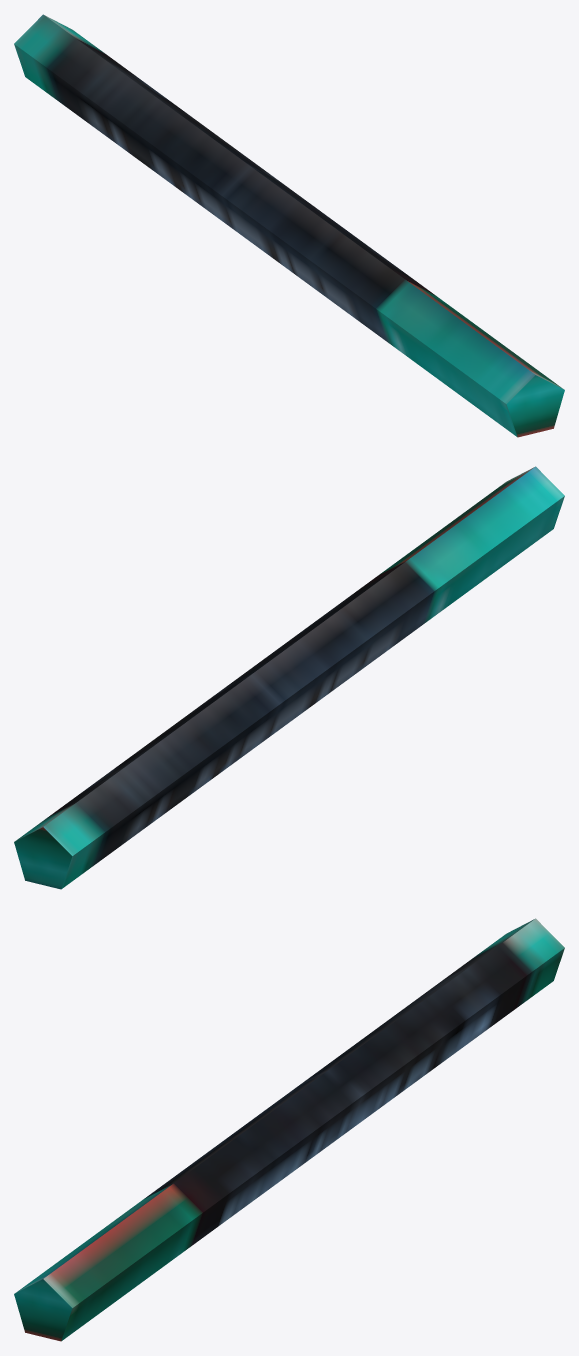
File: Pencil01b.obj
3 renders of one model, top to bottom at view 1: azimuth 30°, elevation 25°; view 2: azimuth 150°, elevation 25°; view 3: azimuth 330°, elevation 25°, orthographic.
Parts seen in each view (by area): view 1: Pencil01a; view 2: Pencil01a; view 3: Pencil01a.
Part boxes in pixels (x1,y1,x2,y2): Pencil01a: [14, 14, 564, 437]; Pencil01a: [14, 466, 564, 889]; Pencil01a: [14, 918, 564, 1341].
Size of the model in its own units: 0.0342 by 0.0325 by 0.5.
